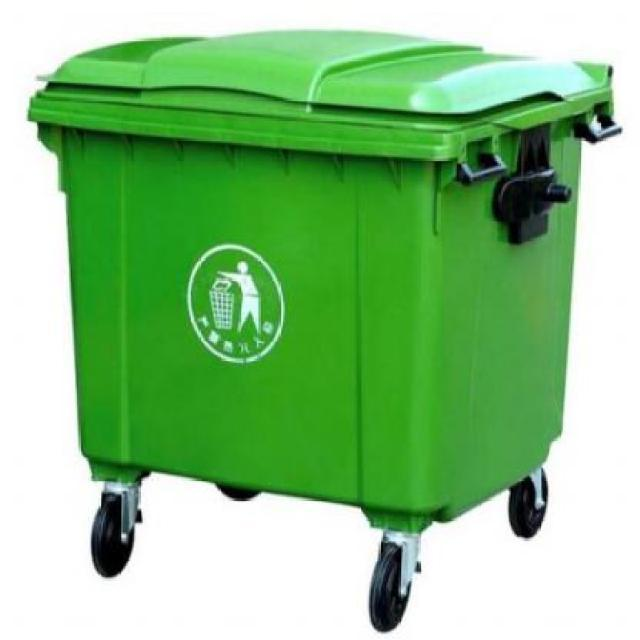garbage container: (9, 20, 635, 640)
